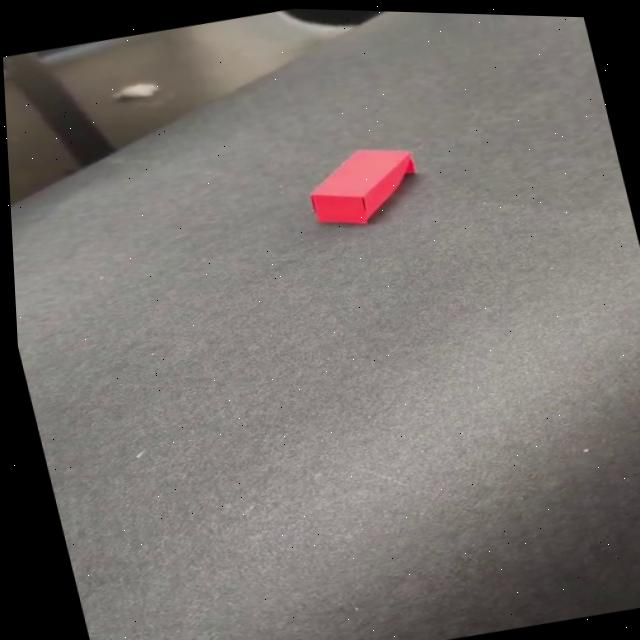red block: (297, 136, 428, 235)
